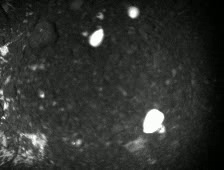corn: (142, 108, 168, 137), (85, 26, 108, 48), (126, 4, 140, 20)
